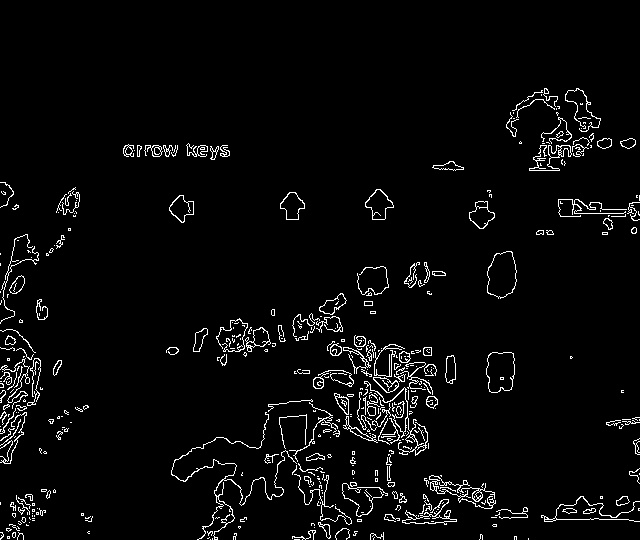down: (458, 191, 503, 239)
left: (161, 190, 207, 230)
up: (357, 183, 403, 232), (271, 184, 314, 230)
